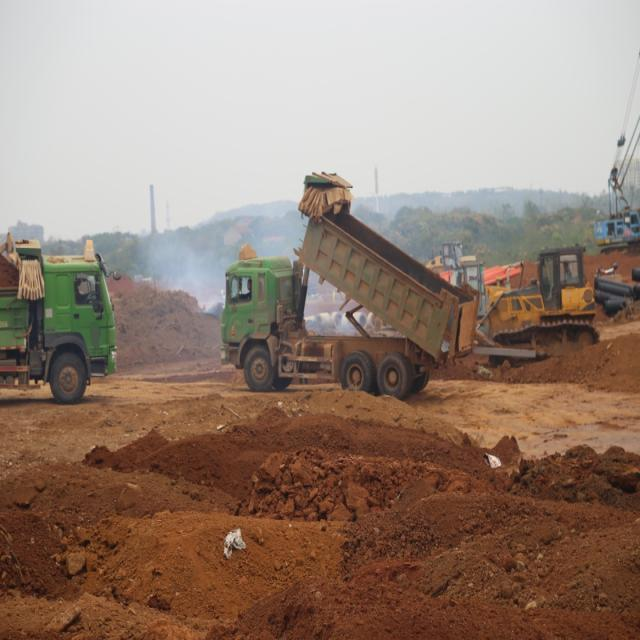crane: (594, 114, 640, 255)
excavator: (425, 240, 464, 271), (0, 231, 14, 264)
machinery: (474, 243, 600, 367)
truck: (221, 170, 480, 400), (0, 239, 121, 405)
